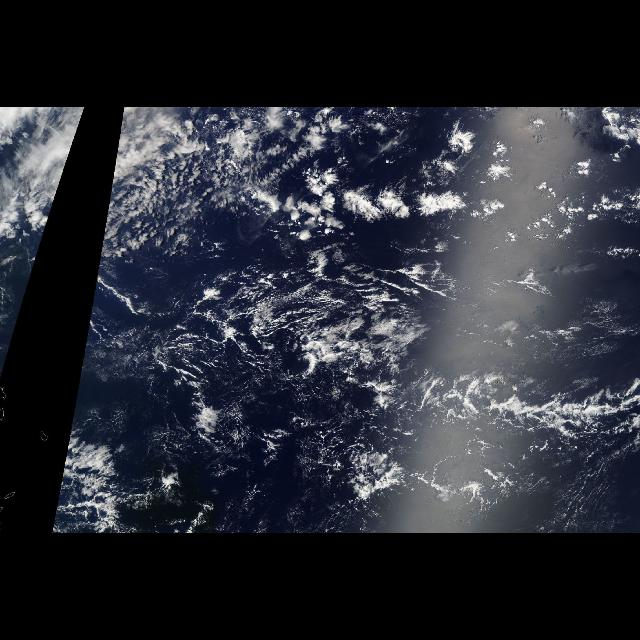Fish: (221, 278, 639, 458)
